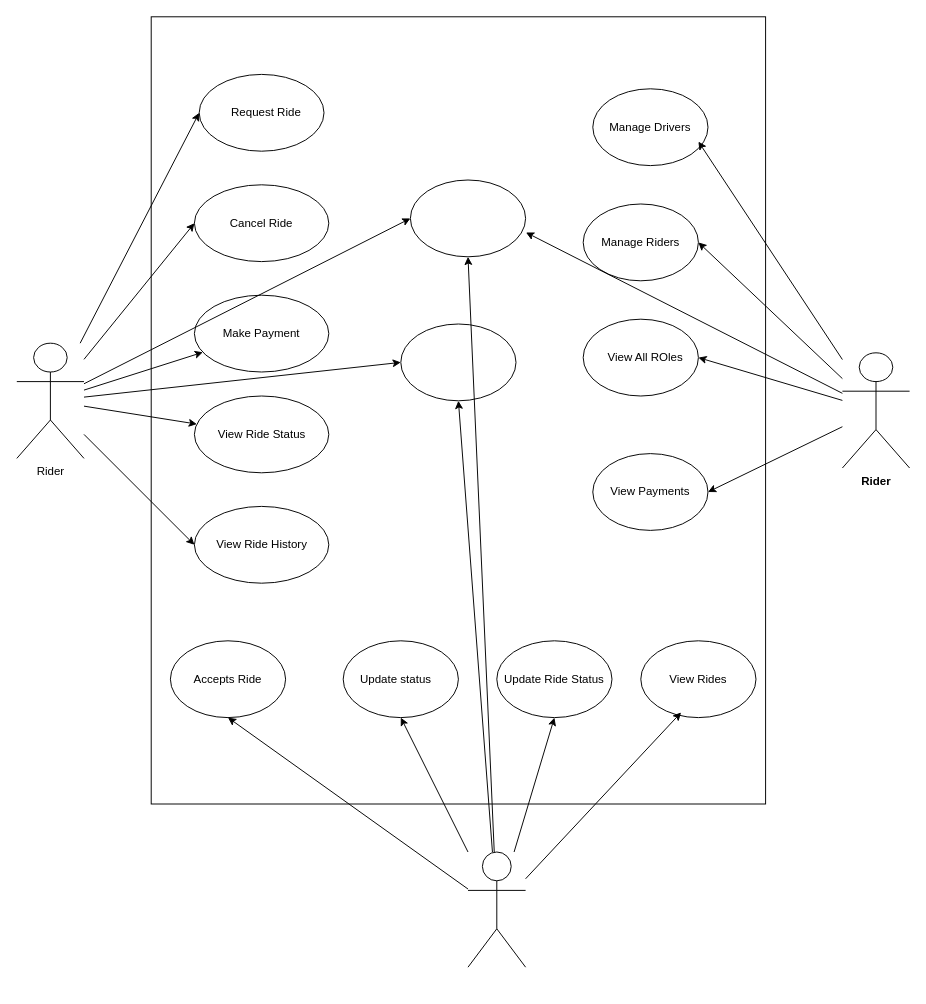
The diagram is 926 pixels wide and 1004 high, and some of its shapes have lost their labels. The shapes that lost their labels are listed below. From the top down, each one's centre as x and y in pixels, then its label:
At [467,218]: "Register".
At [458,362]: "Login".
At [496,909]: "Actor".
